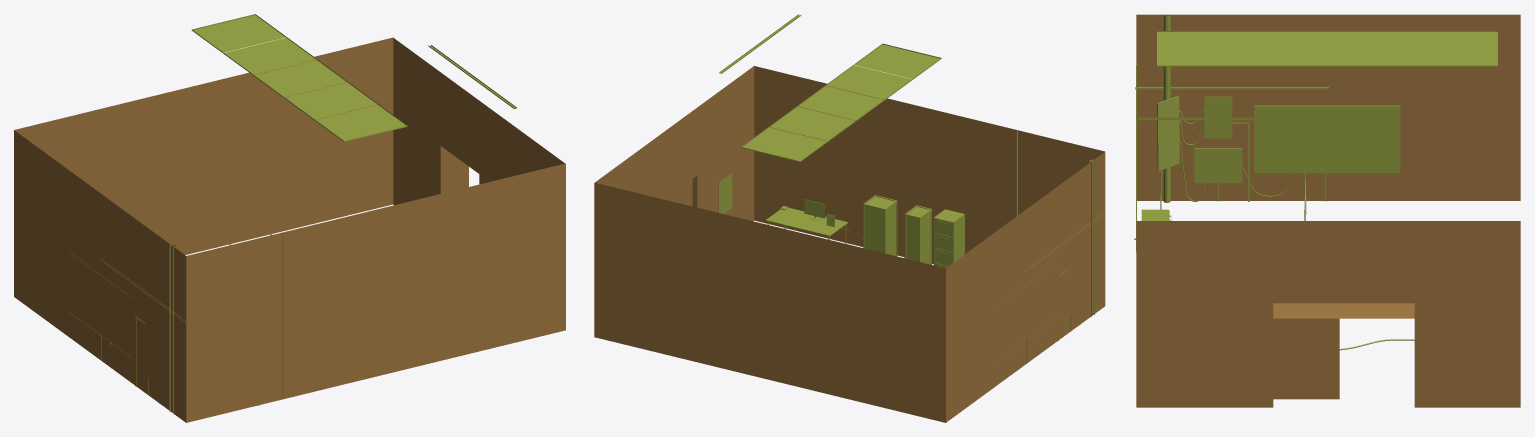
Rendered from Computo.fbx.
The picture shows the model from 3 angles, left to right: view 1: azimuth 30°, elevation 25°; view 2: azimuth 150°, elevation 25°; view 3: azimuth 270°, elevation 25°; orthographic projection. The views are drawn at different scales.
Parts seen in each view (by area): view 1: pared_3, pared_4, pared_2, pared_1, Placas_techo, Soporte_1; view 2: pared_4, pared_3, pared_2, pared_1, Placas_techo, Disco_duro_1, Gabinete, Disco_duro_2, Escritorio, Holograma; view 3: pared_1, pared_2, Placas_techo, Pantalla_1, Paredsita, Pantalla_3, Pantalla_4, Pantalla_2, Plaquita_techo, Soporte_1, Soporte_6.
Boxes of the visible parts, left/top/right/bottom form: pared_3: left=186, top=163, right=565, bottom=422; pared_4: left=14, top=37, right=393, bottom=254; pared_2: left=14, top=130, right=186, bottom=422; pared_1: left=393, top=38, right=564, bottom=205; Placas_techo: left=191, top=14, right=407, bottom=142; Soporte_1: left=169, top=244, right=175, bottom=414; pared_4: left=594, top=182, right=945, bottom=422; pared_3: left=754, top=66, right=1104, bottom=264; pared_2: left=946, top=152, right=1105, bottom=422; pared_1: left=595, top=66, right=754, bottom=220; Placas_techo: left=741, top=43, right=941, bottom=162; Disco_duro_1: left=863, top=195, right=897, bottom=256; Gabinete: left=934, top=209, right=964, bottom=268; Disco_duro_2: left=905, top=205, right=931, bottom=264; Escritorio: left=765, top=207, right=848, bottom=243; Holograma: left=718, top=173, right=732, bottom=213; pared_1: left=1136, top=221, right=1520, bottom=407; pared_2: left=1136, top=14, right=1520, bottom=200; Placas_techo: left=1157, top=31, right=1497, bottom=66; Pantalla_1: left=1254, top=105, right=1400, bottom=173; Paredsita: left=1273, top=318, right=1339, bottom=399; Pantalla_3: left=1194, top=148, right=1242, bottom=183; Pantalla_4: left=1157, top=95, right=1179, bottom=171; Pantalla_2: left=1204, top=96, right=1232, bottom=138; Plaquita_techo: left=1136, top=117, right=1328, bottom=120; Soporte_1: left=1163, top=15, right=1170, bottom=202; Soporte_6: left=1135, top=87, right=1328, bottom=89.
Size of the model in its own units: 22.69 by 12.51 by 16.65.
